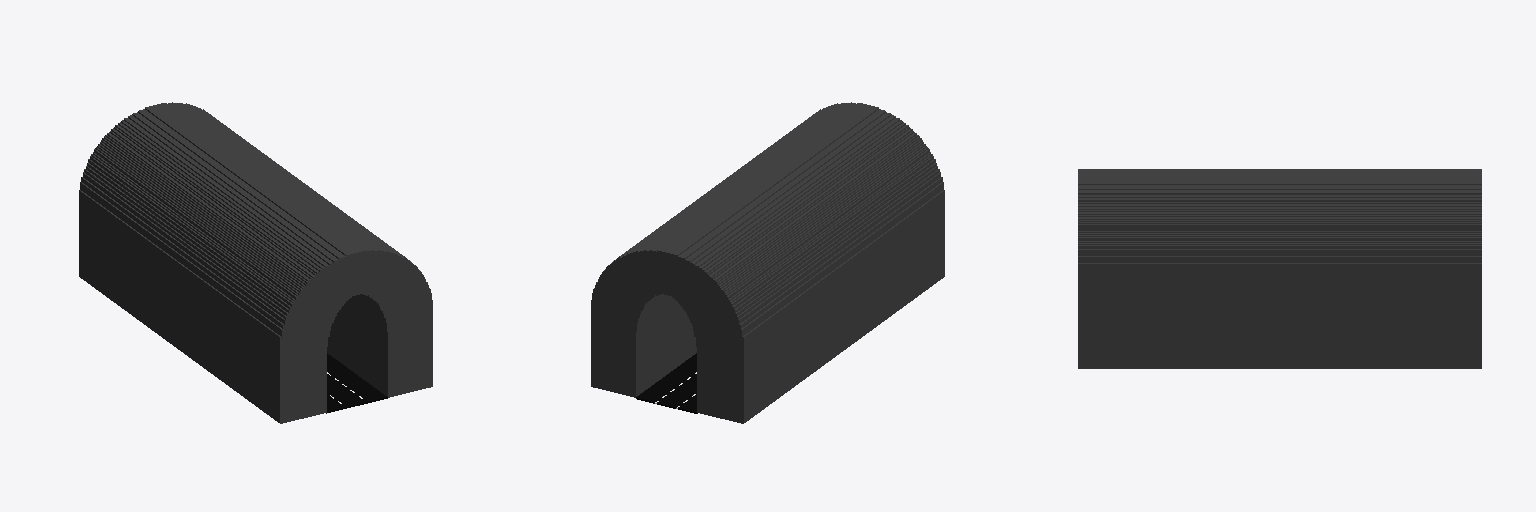
3 views of the same model, side by side, from view 1: azimuth 30°, elevation 25°; view 2: azimuth 150°, elevation 25°; view 3: azimuth 270°, elevation 25° (orthographic).
Visible parts, largest first — view 1: object 1; view 2: object 1; view 3: object 1.
Boxes of the visible parts, x1=… form: object 1: x1=79, y1=102, x2=432, y2=423; object 1: x1=591, y1=102, x2=944, y2=423; object 1: x1=1078, y1=169, x2=1481, y2=368.
Size of the model in its own units: 10.9 by 10.5 by 24.9.
Materials: 1 (1 with a texture image).